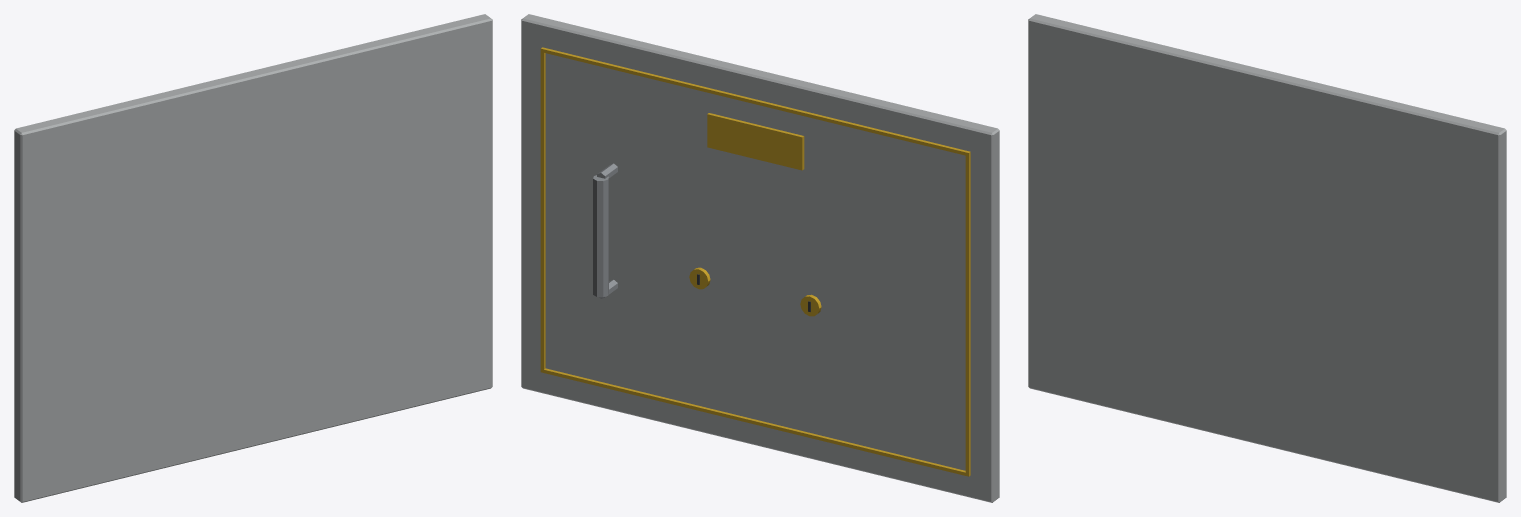
Rendered from prop_of_deposit_drawer.glb.
3 renders of one model, left to right at view 1: azimuth 30°, elevation 25°; view 2: azimuth 150°, elevation 25°; view 3: azimuth 330°, elevation 25°, orthographic.
Parts seen in each view (by area): view 1: Drawer; view 2: Drawer; view 3: Drawer.
Boxes of the visible parts, <box> form: Drawer: <box>14,14,492,502</box>; Drawer: <box>521,14,999,502</box>; Drawer: <box>1028,14,1506,502</box>.
Size of the model in its own units: 0.596 by 0.446 by 0.054.
